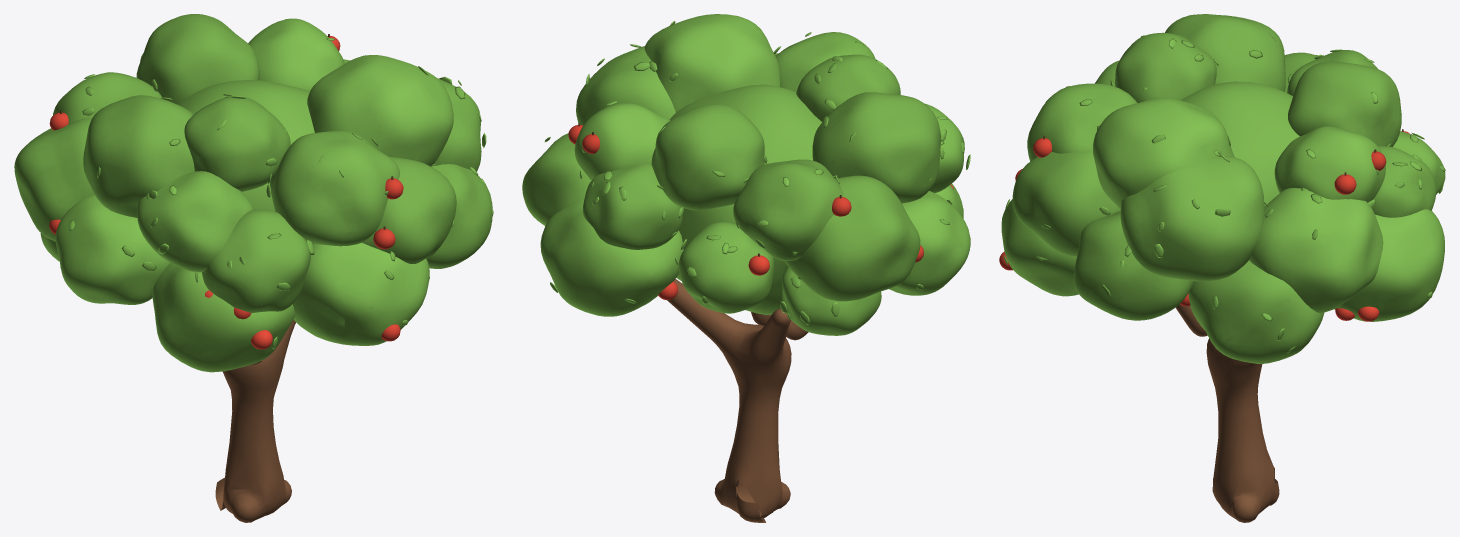
File: apple_tree_b.fbx
3 views of the same model, side by side, from view 1: azimuth 30°, elevation 25°; view 2: azimuth 150°, elevation 25°; view 3: azimuth 270°, elevation 25° (orthographic). The views are drawn at different scales.
Visible parts, largest first — view 1: apple_tree_b; view 2: apple_tree_b; view 3: apple_tree_b.
Boxes of the visible parts, <box> form: apple_tree_b: <box>14,14,493,522</box>; apple_tree_b: <box>522,14,970,522</box>; apple_tree_b: <box>999,14,1445,522</box>.
Size of the model in its own units: 1.82 by 2 by 1.81.
